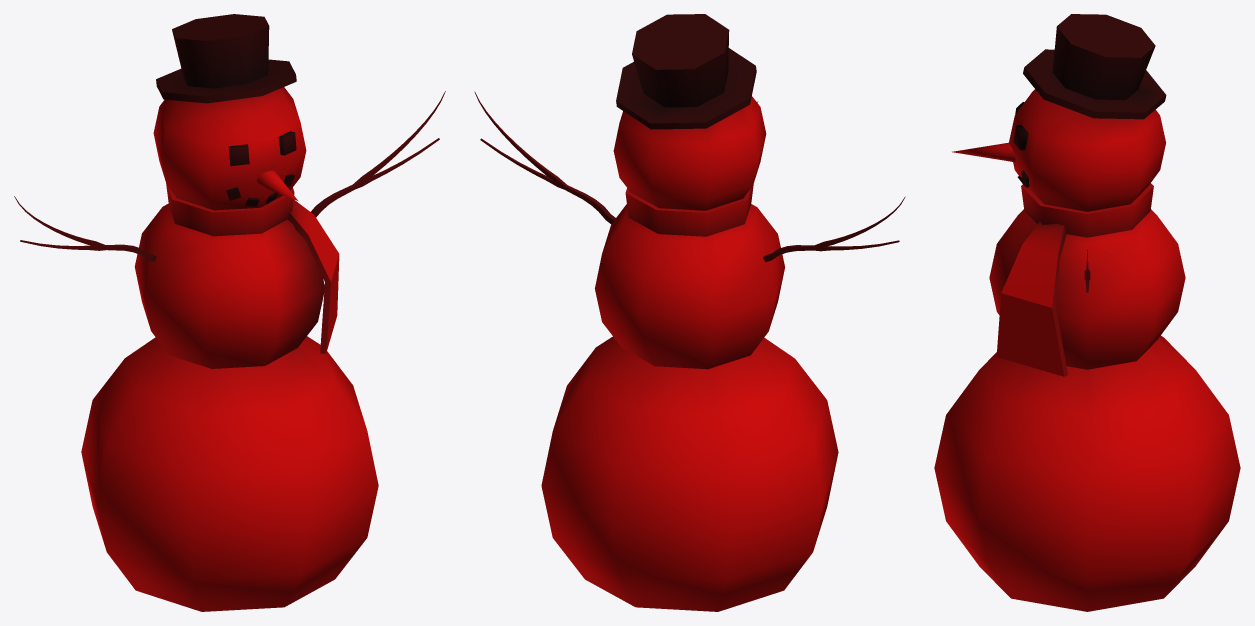
File: Snowman.glb
The picture shows the model from 3 angles, left to right: view 1: azimuth 30°, elevation 25°; view 2: azimuth 150°, elevation 25°; view 3: azimuth 270°, elevation 25°; orthographic projection.
Parts seen in each view (by area): view 1: Snowman; view 2: Snowman; view 3: Snowman.
Boxes of the visible parts, left/top/right/bottom form: Snowman: left=14, top=14, right=445, bottom=611; Snowman: left=474, top=14, right=905, bottom=611; Snowman: left=934, top=14, right=1240, bottom=611.
Size of the model in its own units: 7.31 by 8.99 by 4.52.
